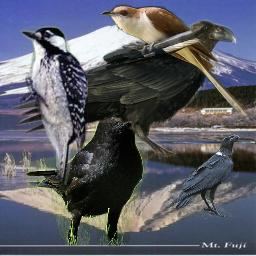Crow: (10, 18, 240, 160), (26, 93, 151, 246), (168, 133, 241, 217)
Cuckoo: (100, 4, 250, 119)
Woodpecker: (20, 26, 88, 185)
